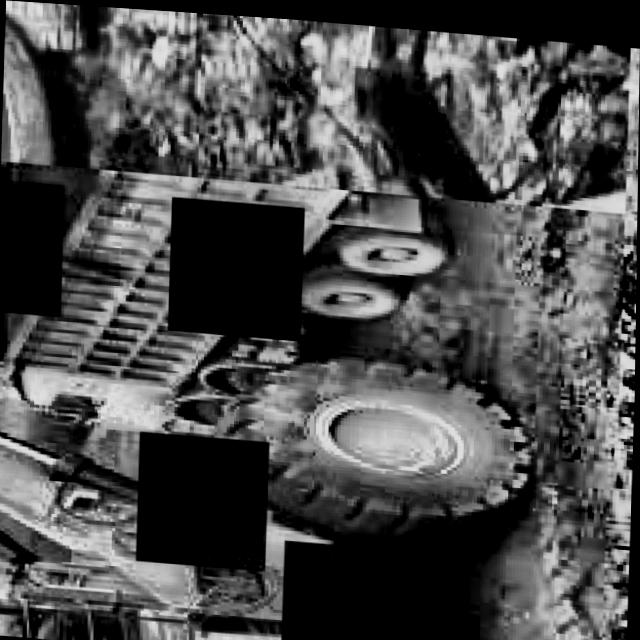buldozerpayloadergrader: (0, 160, 622, 640)
dump_truck: (0, 160, 471, 455)
excavator: (355, 19, 626, 201)
